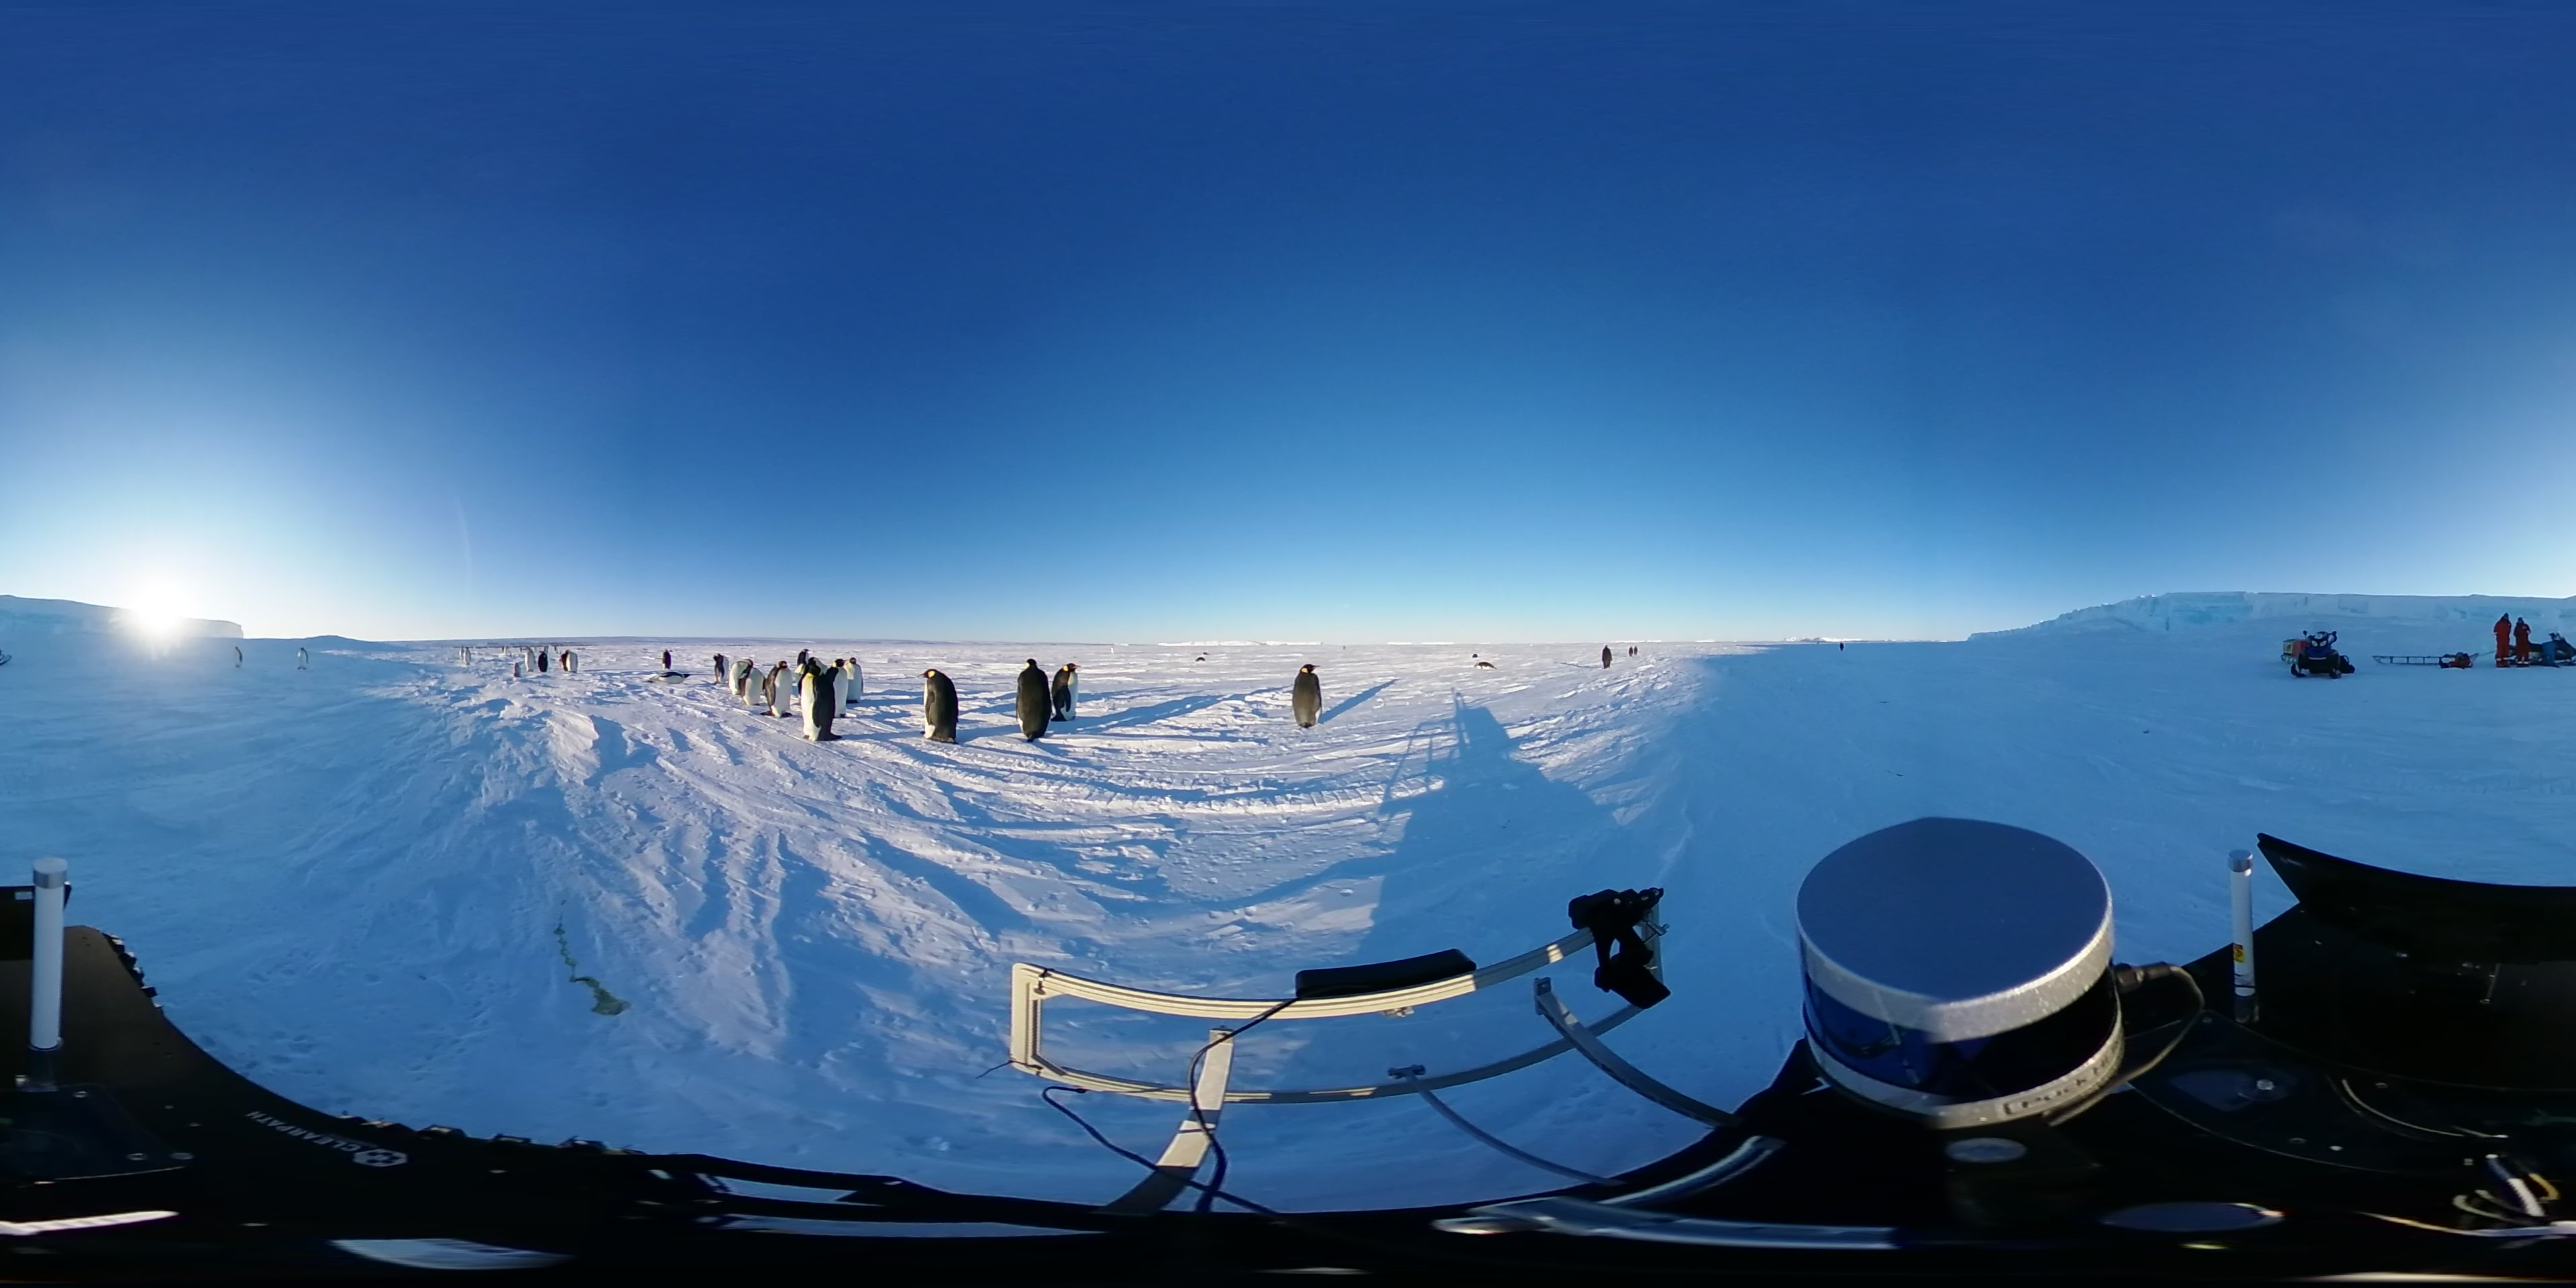adult_standing_penguin: (918, 665, 964, 749), (798, 662, 841, 744), (1014, 657, 1053, 746), (1290, 660, 1326, 733), (761, 660, 797, 724), (1050, 662, 1081, 724), (844, 657, 864, 703), (710, 654, 731, 690)
adult_toboggan_penguin: (655, 669, 692, 687)
researcher: (2491, 609, 2515, 670), (2510, 614, 2535, 670), (2436, 647, 2477, 672)
